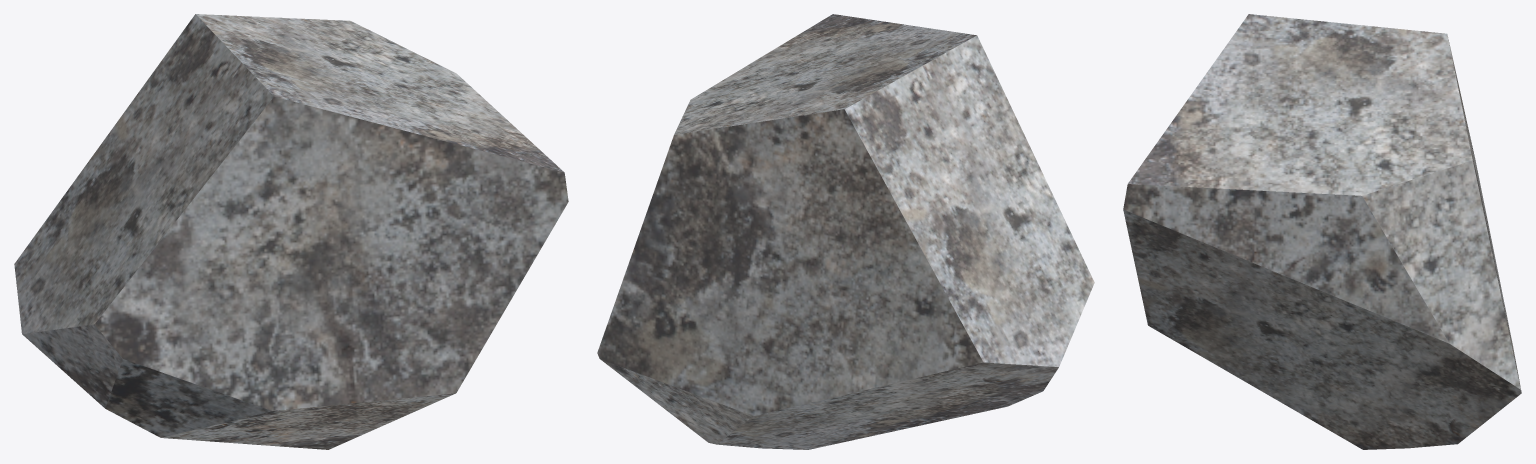
The model's file is Asteroid_Large_001_02_006_03_016.fbx.
3 renders of one model, left to right at view 1: azimuth 30°, elevation 25°; view 2: azimuth 150°, elevation 25°; view 3: azimuth 270°, elevation 25°, orthographic. The views are drawn at different scales.
Parts seen in each view (by area): view 1: Asteroid_Large_001_02_006_03_016; view 2: Asteroid_Large_001_02_006_03_016; view 3: Asteroid_Large_001_02_006_03_016.
Boxes of the visible parts, x1=… form: Asteroid_Large_001_02_006_03_016: x1=14, y1=14, x2=568, y2=449; Asteroid_Large_001_02_006_03_016: x1=597, y1=14, x2=1094, y2=449; Asteroid_Large_001_02_006_03_016: x1=1123, y1=14, x2=1521, y2=449.
Size of the model in its own units: 11.26 by 10.61 by 9.97.
